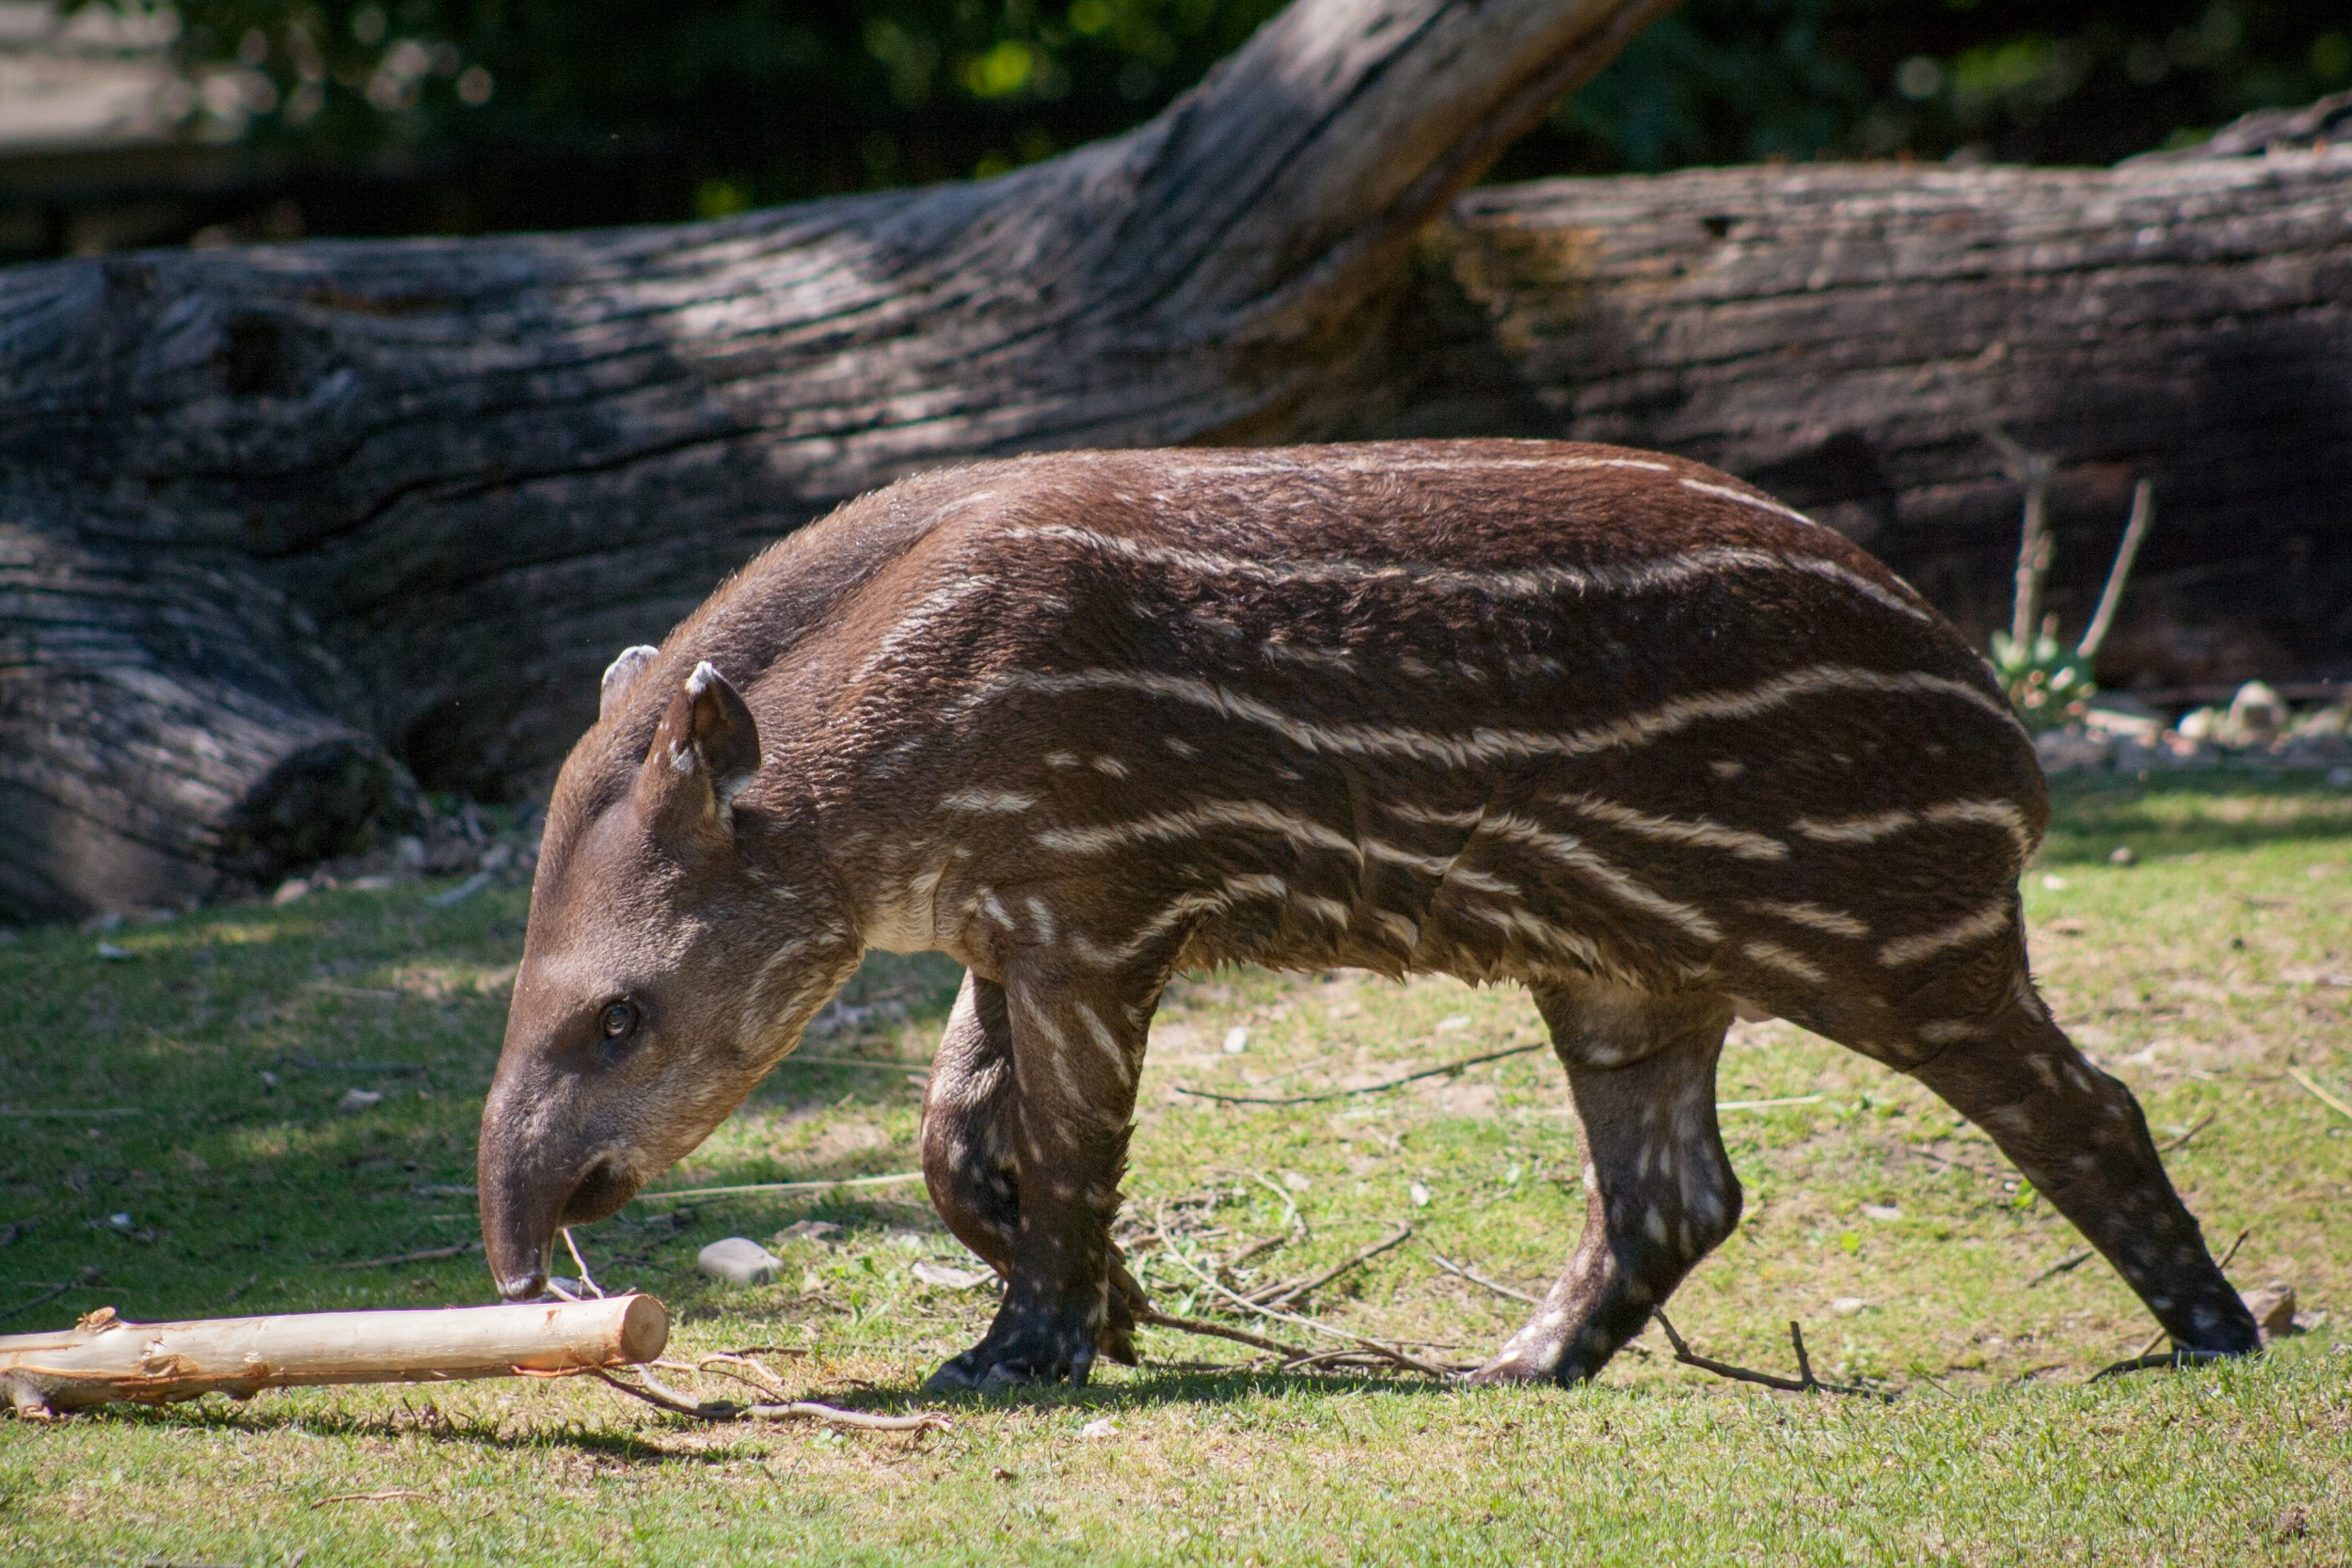Anta: (458, 437, 2294, 1402)
